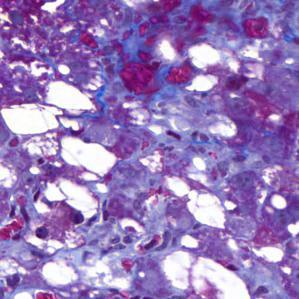ballooning: (4, 77, 96, 140), (32, 177, 100, 237), (184, 185, 230, 232)
